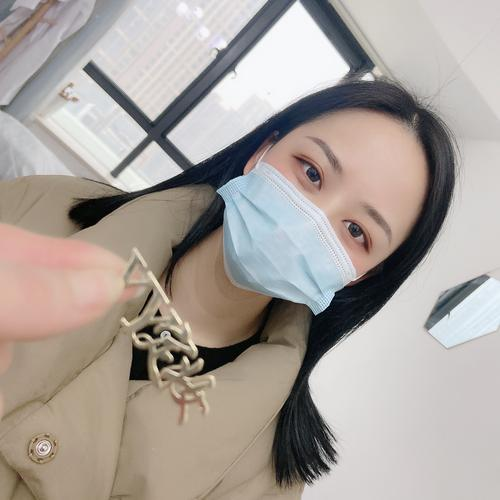mask: (223, 92, 434, 308)
